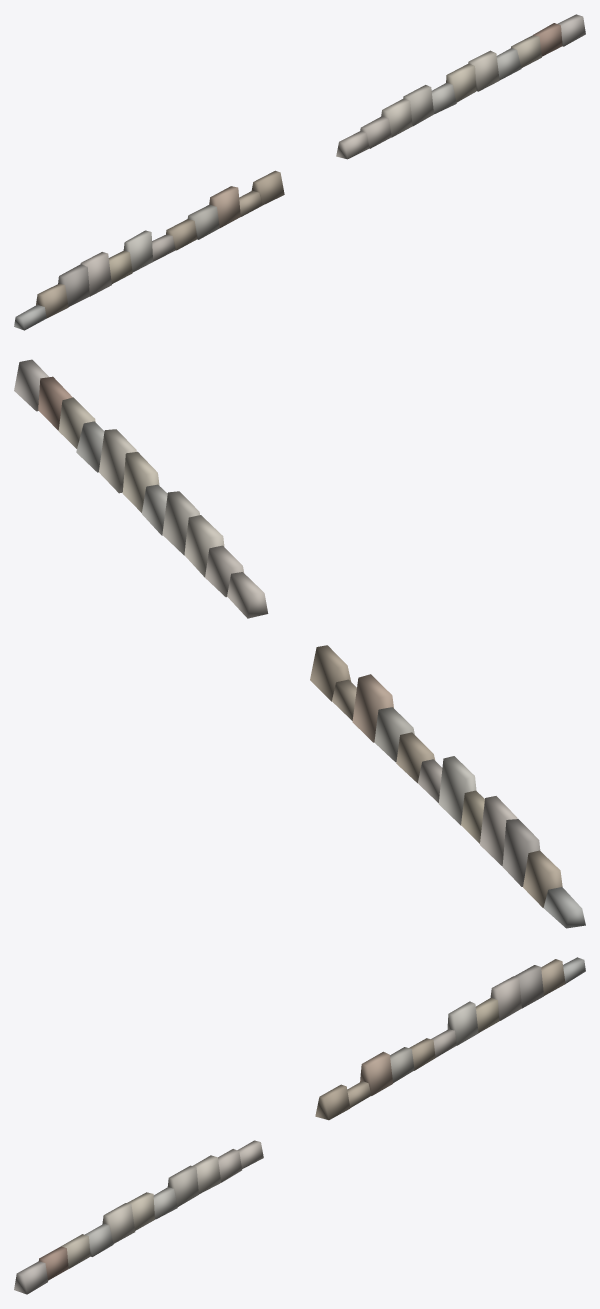
Rendered from farm_1_-1_far.glb.
The picture shows the model from 3 angles, top to bottom: view 1: azimuth 90°, elevation 25°; view 2: azimuth 150°, elevation 25°; view 3: azimuth 270°, elevation 25°; orthographic projection. The views are drawn at different scales.
Visible parts, largest first — view 1: geometry_0; view 2: geometry_0; view 3: geometry_0.
Part boxes in pixels (box(x1,y1,x2,y2)): geometry_0: box(14, 14, 585, 330); geometry_0: box(14, 359, 585, 928); geometry_0: box(14, 957, 585, 1294).
Bounding box in the file's own units: 33.02 × 2.09 × 25.5.
